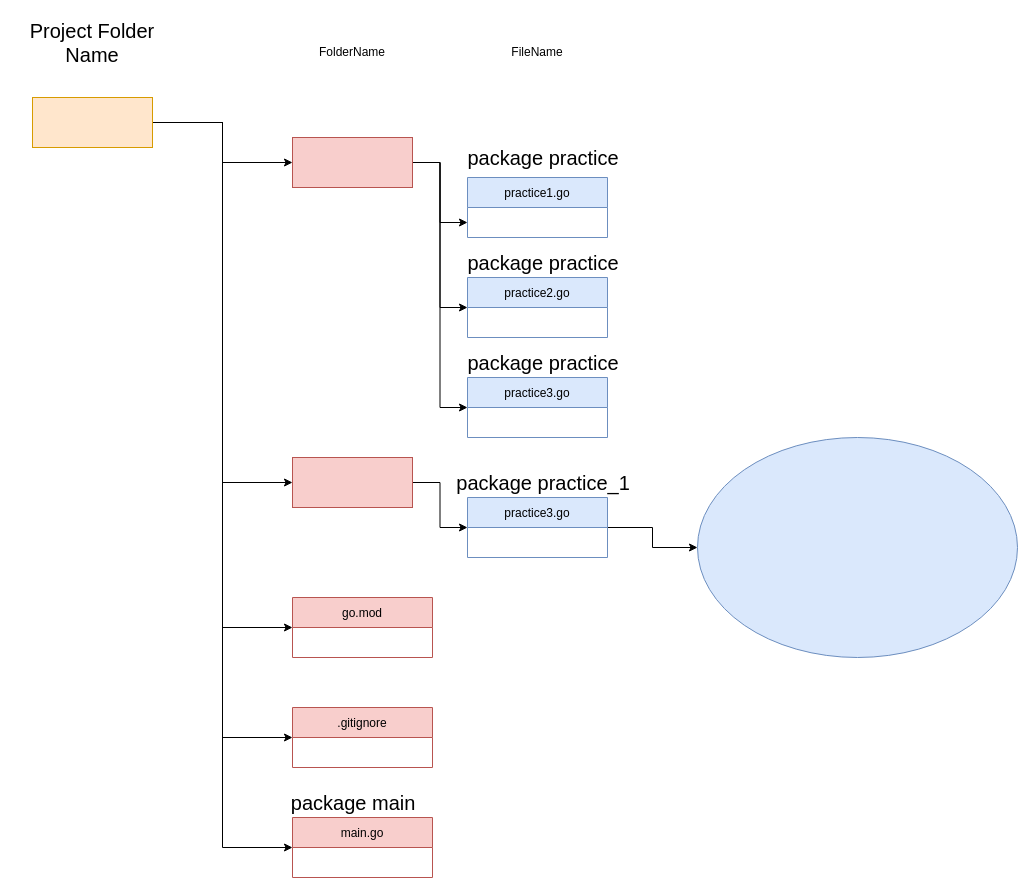
This 1035x895 diagram has some shape labels left out. Each missing label, with the centre of its shape:
"Golang_practice" belongs at point (92, 122).
"practice" belongs at point (352, 162).
"practice_1" belongs at point (352, 482).
